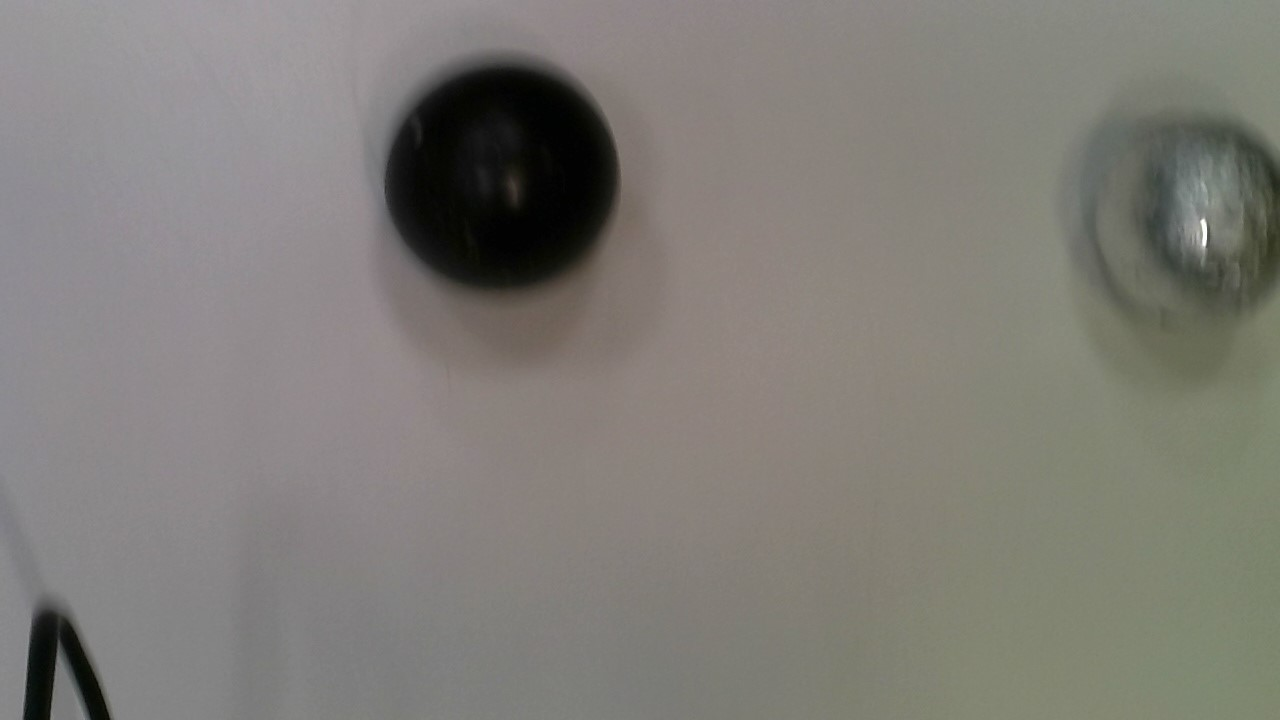black_ball: (377, 49, 636, 299)
silver_ball: (1069, 100, 1280, 336)
